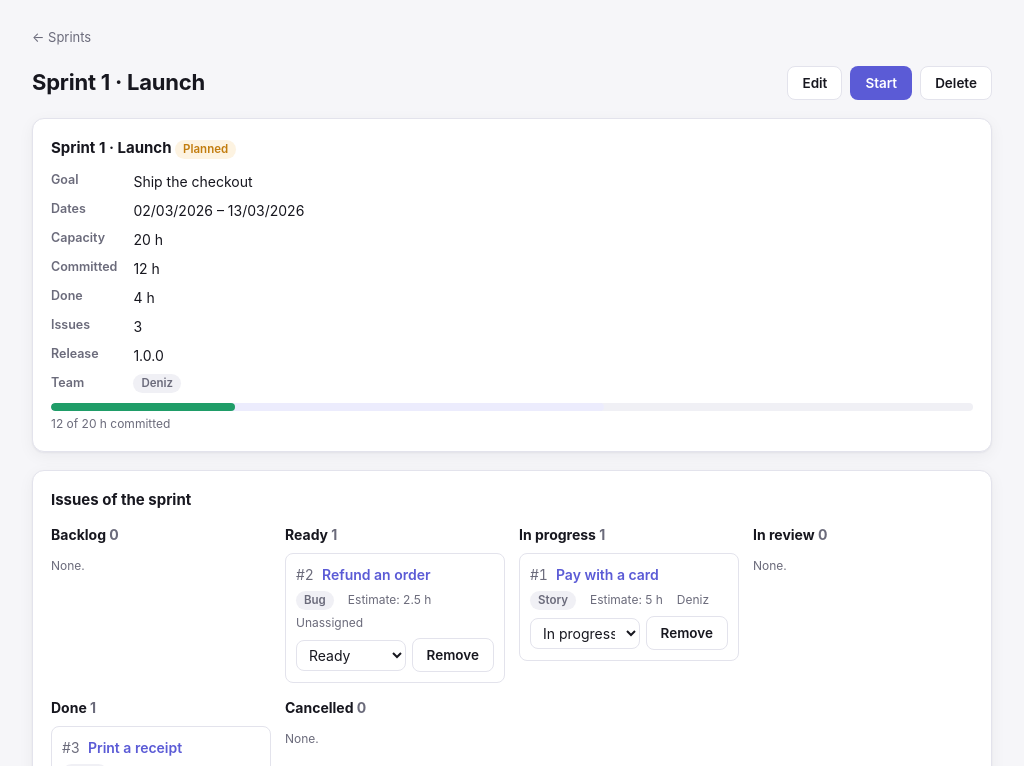
Test: the sprint page: changing the sprint › opens a form with the sprint's values, the release it has and the team it has
Click the button "Edit": (815, 82) left=788, top=66, right=842, bottom=100
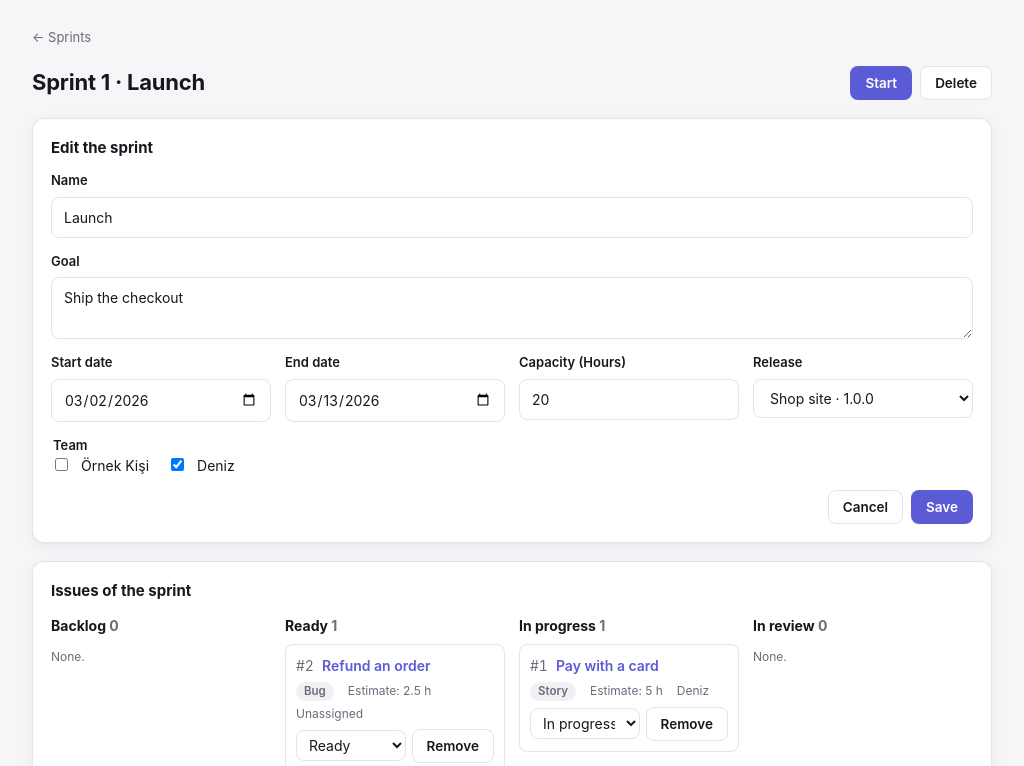
expect the field labelled "Name" holds "Launch": met, box left=51, top=196, right=973, bottom=238
expect the text box labelled "Goal" holds "Ship the checkout": met, box left=51, top=277, right=973, bottom=339
expect the date field labelled "Start date" holds "2026-03-02": met, box left=51, top=378, right=271, bottom=422
